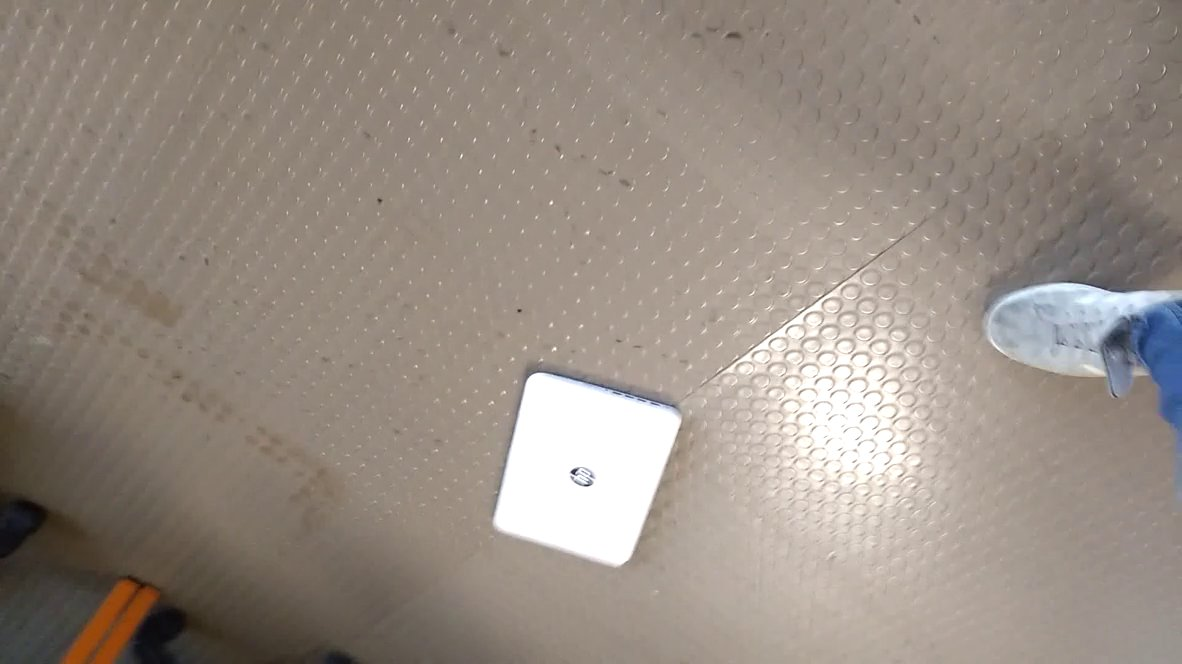laptop: (484, 362, 685, 577)
